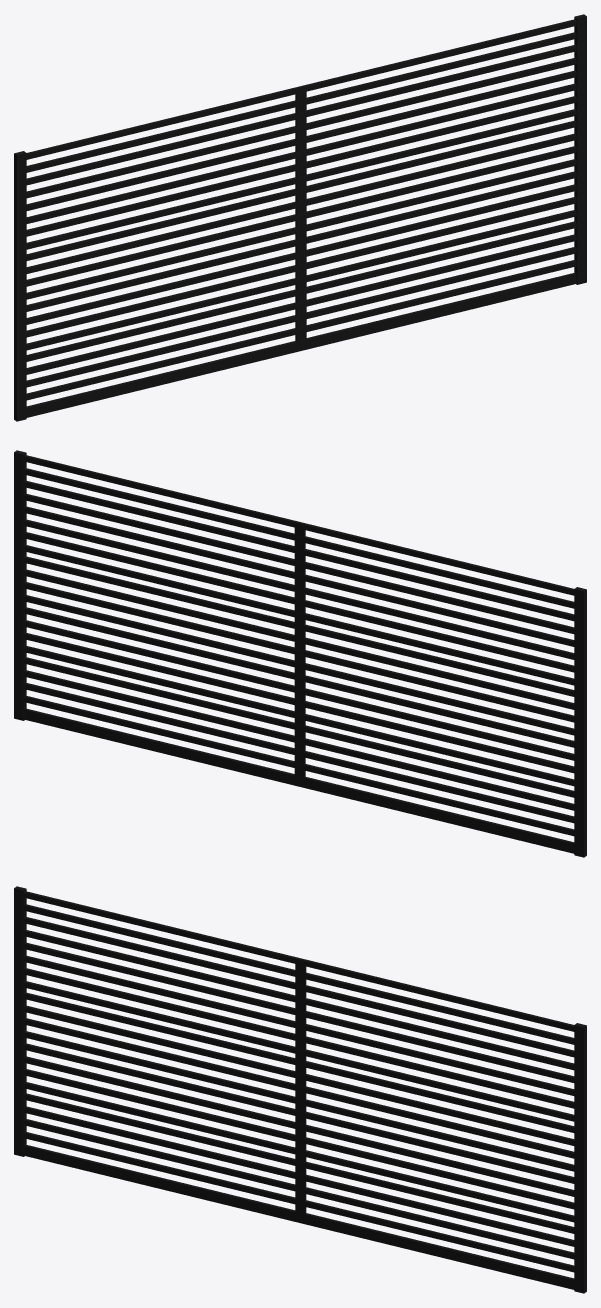
File: Fence.FBX
3 renders of one model, top to bottom at view 1: azimuth 30°, elevation 25°; view 2: azimuth 150°, elevation 25°; view 3: azimuth 330°, elevation 25°, orthographic.
Parts seen in each view (by area): view 1: Fence; view 2: Fence; view 3: Fence.
Part boxes in pixels (left/top/right/bottom): Fence: left=14, top=14, right=586, bottom=421; Fence: left=14, top=450, right=586, bottom=857; Fence: left=14, top=886, right=586, bottom=1293.
Size of the model in its own units: 448 by 200 by 3.91.
1 material, 1 textured.
